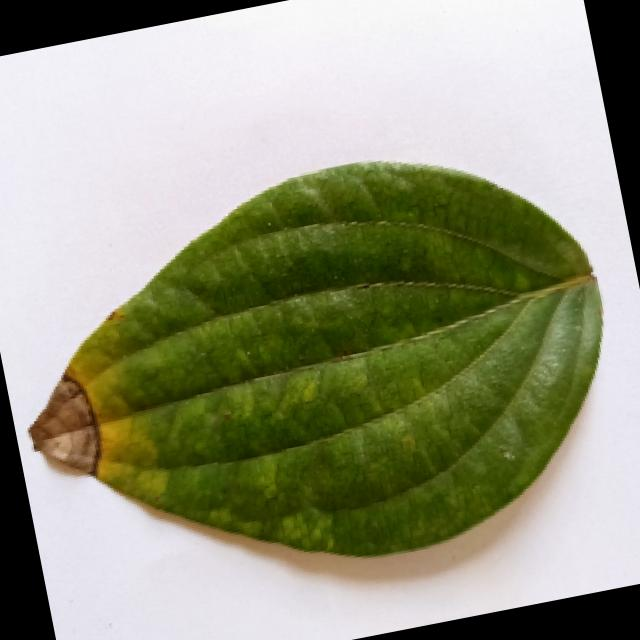footrot: (0, 125, 638, 624)
